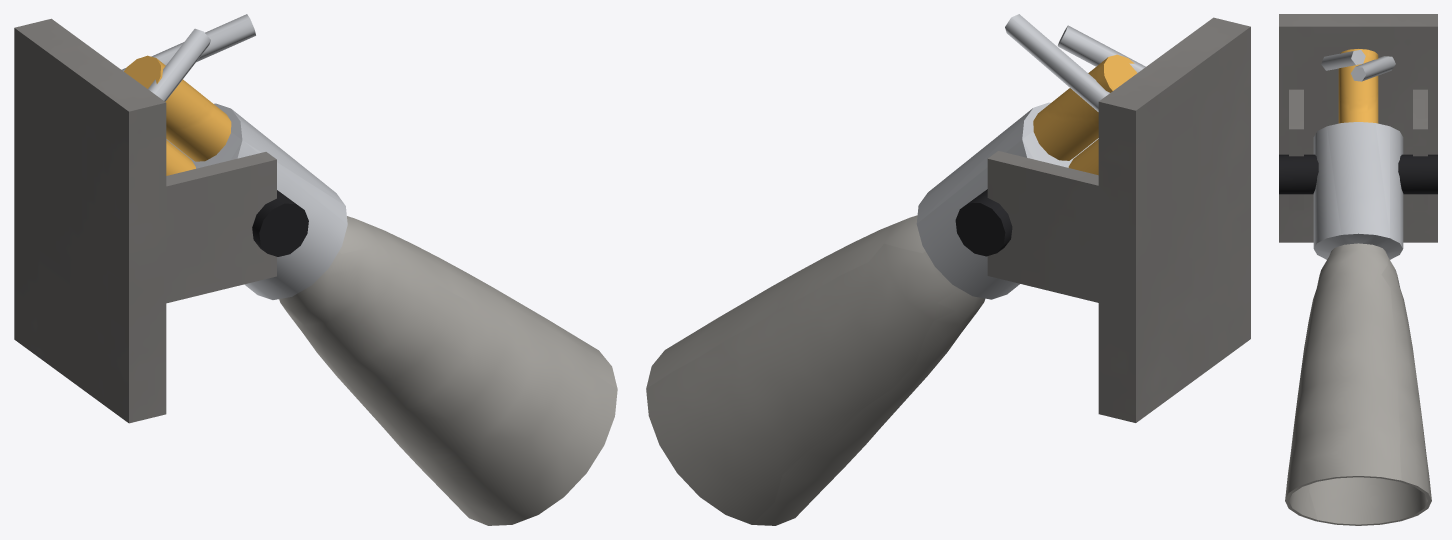
File: prop17_vernier_swivel_neg.glb
The picture shows the model from 3 angles, left to right: view 1: azimuth 30°, elevation 25°; view 2: azimuth 150°, elevation 25°; view 3: azimuth 270°, elevation 25°; orthographic projection. The views are drawn at different scales.
Parts seen in each view (by area): view 1: bracket, nozzle_bell, nozzle_chamber, nozzle_valves, feed_lines, swivel_axle; view 2: bracket, nozzle_bell, nozzle_chamber, nozzle_valves, feed_lines, swivel_axle; view 3: nozzle_bell, bracket, nozzle_chamber, swivel_axle, nozzle_valves, feed_lines.
Part boxes in pixels (x1,y1,x2,y2): bracket: [14, 18, 276, 423]; nozzle_bell: [279, 216, 617, 525]; nozzle_chamber: [166, 103, 347, 299]; nozzle_valves: [124, 55, 231, 175]; feed_lines: [121, 14, 255, 101]; swivel_axle: [252, 190, 308, 256]; bracket: [987, 17, 1250, 422]; nozzle_bell: [646, 215, 985, 525]; nozzle_chamber: [916, 102, 1098, 299]; nozzle_valves: [1033, 54, 1137, 175]; feed_lines: [1005, 14, 1145, 111]; swivel_axle: [955, 189, 1012, 256]; nozzle_bell: [1285, 243, 1431, 525]; bracket: [1279, 14, 1437, 242]; nozzle_chamber: [1313, 122, 1403, 259]; swivel_axle: [1279, 154, 1437, 194]; nozzle_valves: [1338, 49, 1378, 123]; feed_lines: [1321, 50, 1395, 81].
Size of the model in its own units: 0.4248 by 0.4273 by 0.16.
5 materials, 4 textured.
